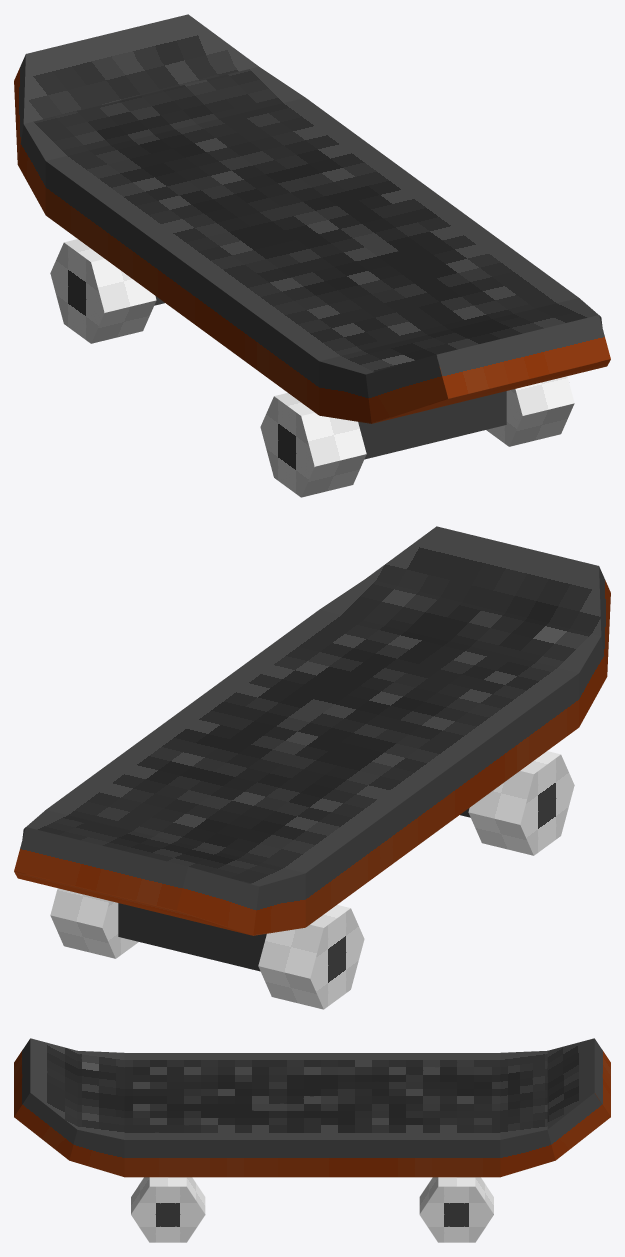
The model's file is Skateboard.gltf.
3 views of the same model, one above another, from view 1: azimuth 30°, elevation 25°; view 2: azimuth 150°, elevation 25°; view 3: azimuth 270°, elevation 25° (orthographic). The views are drawn at different scales.
Visible parts, largest first — view 1: Shape, Wheels (×3), Truck; view 2: Shape, Wheels (×3), Truck; view 3: Shape, Wheels (×2).
Part boxes in pixels (left/top/right/bottom): Shape: left=14, top=14, right=610, bottom=423; Wheels (×3): left=50, top=239, right=574, bottom=497; Truck: left=358, top=357, right=506, bottom=459; Shape: left=14, top=526, right=610, bottom=935; Wheels (×3): left=50, top=751, right=574, bottom=1009; Truck: left=118, top=903, right=266, bottom=971; Shape: left=14, top=1038, right=610, bottom=1177; Wheels (×2): left=131, top=1177, right=493, bottom=1242.
Bounding box in the file's own units: 0.625 × 0.4472 × 1.81.
Materials: 1 (1 with a texture image).
